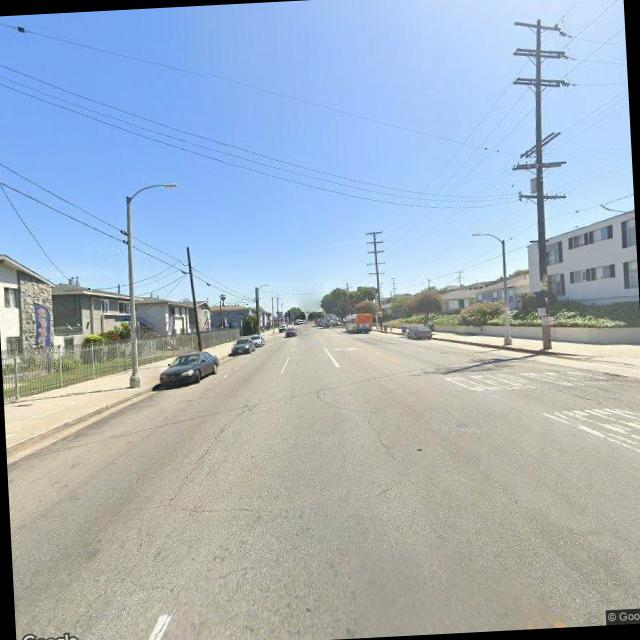pothole: (163, 412, 239, 502), (362, 411, 395, 461)
